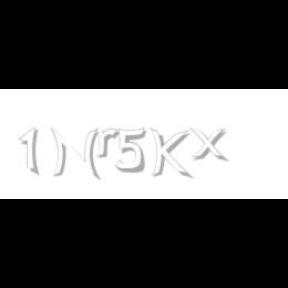1: (18, 128, 40, 176)
5: (115, 128, 146, 174)
K: (149, 128, 189, 180)
N: (49, 128, 98, 180)
r: (96, 128, 122, 158)
x: (189, 128, 231, 162)
